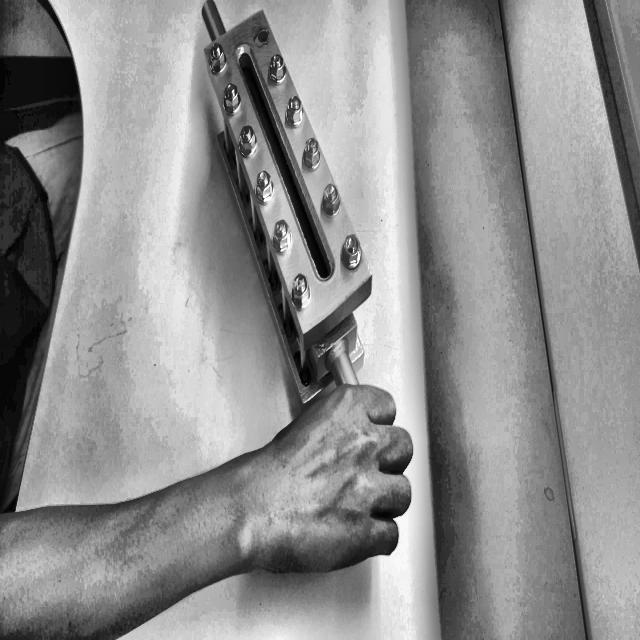ShuiWeiQi_11: (179, 11, 396, 376)
